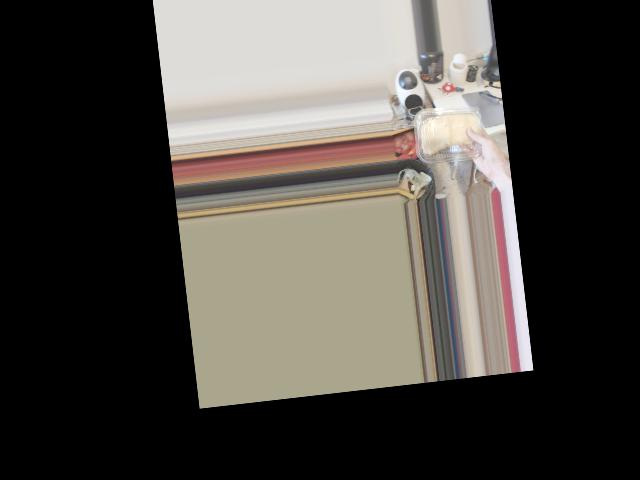cheese: (416, 97, 483, 168)
